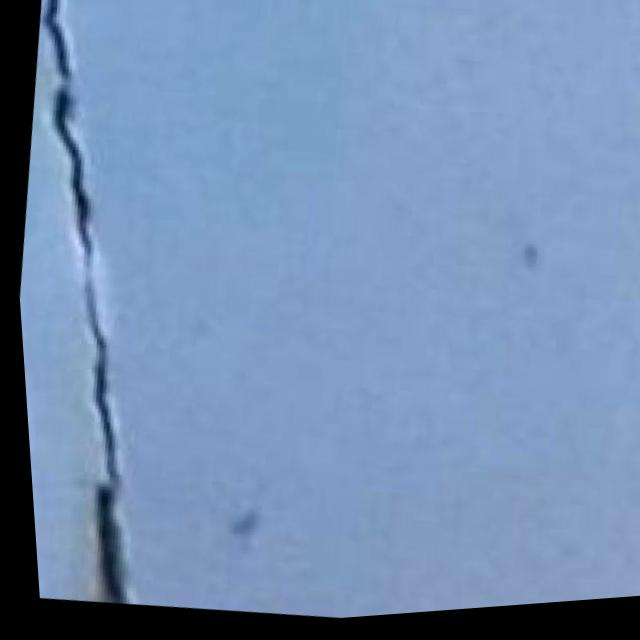Crack: (0, 0, 244, 615)
